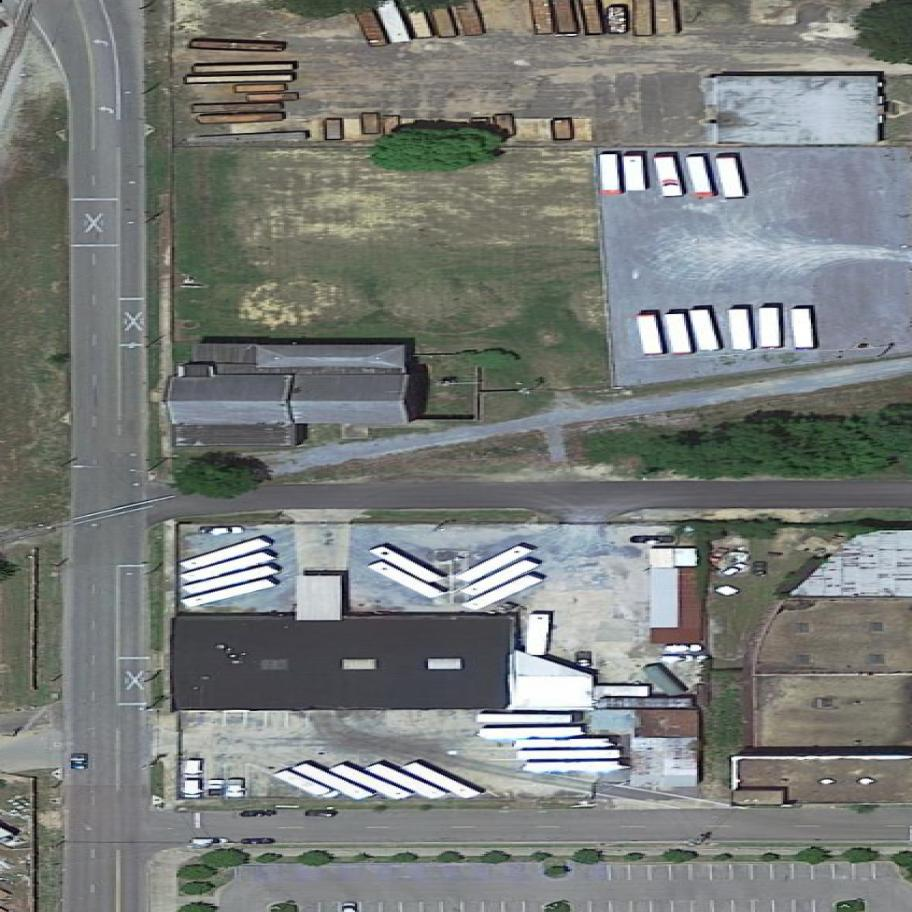large-vehicle: (454, 539, 536, 590), (364, 757, 450, 805), (366, 555, 448, 605), (292, 759, 376, 807), (178, 534, 275, 574), (462, 569, 546, 615), (402, 758, 482, 806), (329, 760, 413, 805), (460, 556, 542, 601), (370, 541, 445, 589), (180, 548, 277, 585), (181, 563, 282, 598), (179, 578, 278, 611), (275, 766, 342, 805), (716, 153, 749, 203), (690, 306, 721, 355), (686, 153, 716, 202), (665, 310, 695, 358), (654, 154, 684, 200), (727, 307, 755, 353), (525, 761, 622, 773), (518, 750, 622, 761), (525, 613, 551, 657), (482, 727, 585, 738), (759, 307, 783, 349), (514, 739, 611, 749), (639, 314, 662, 356), (792, 307, 815, 349), (600, 153, 622, 196), (624, 153, 647, 193), (480, 714, 574, 723)
small-vehicle: (706, 542, 734, 570), (720, 559, 751, 580), (200, 526, 248, 535), (226, 779, 247, 798), (183, 760, 203, 779), (664, 644, 706, 653), (183, 780, 204, 798), (632, 536, 673, 544), (206, 780, 226, 796), (191, 838, 230, 846), (239, 810, 278, 818), (660, 656, 697, 664), (576, 652, 594, 668), (243, 838, 278, 846), (71, 755, 88, 771), (753, 562, 768, 576), (308, 811, 338, 817)
